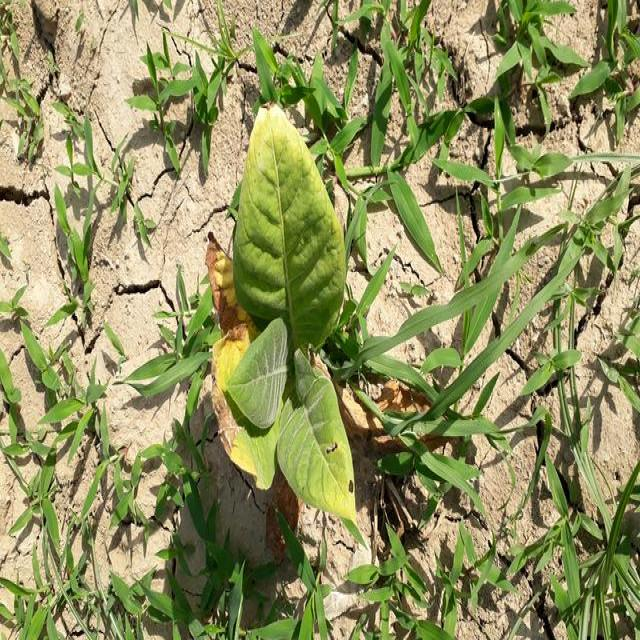crop: (216, 100, 364, 526)
